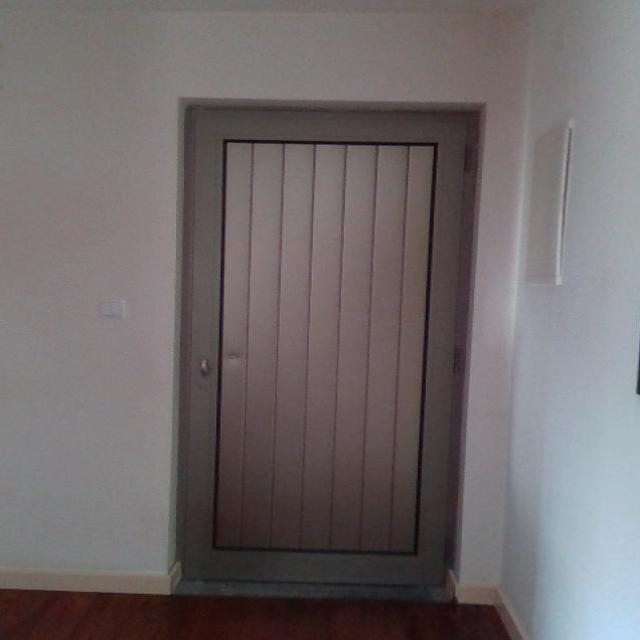door: (175, 101, 477, 593)
